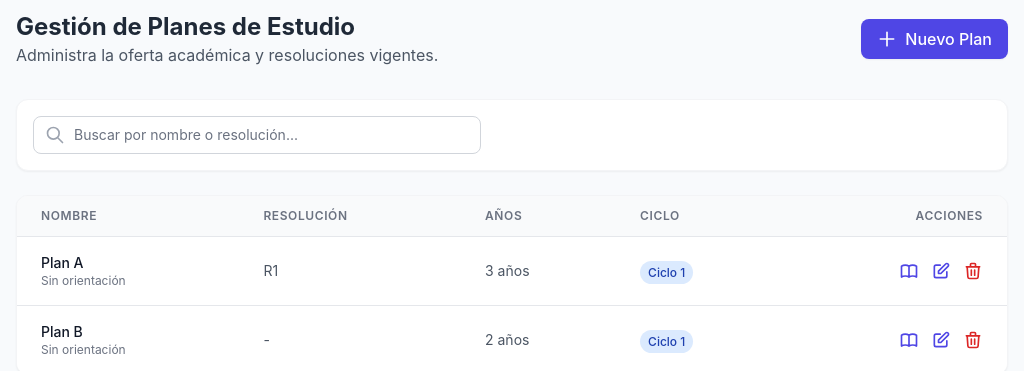
it: PlanManagement Component › debe filtrar los planes según la búsqueda
Expected: the text "Plan B" is shown, [41,323,83,340]
Type "Plan A" into the field with placeholder "Buscar por nombre o resolución..." at (257, 135), box [33,116,481,154]
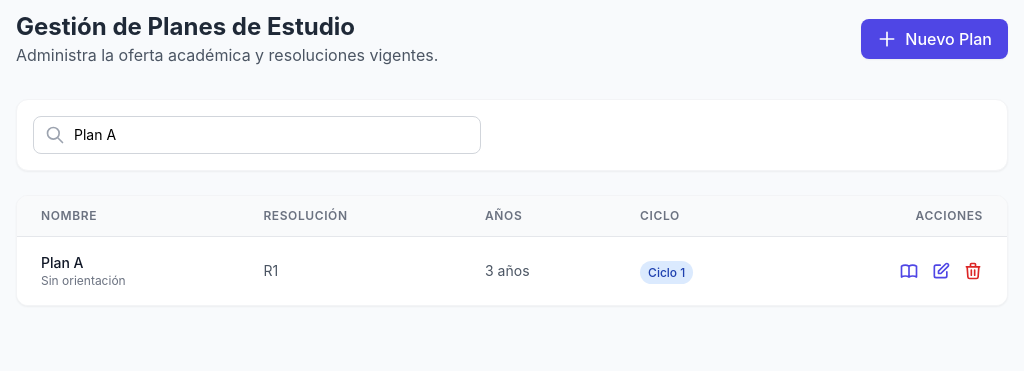
Expected: the text "Plan A" is shown, [41,254,84,271]
Now the text "Plan B" is gone
